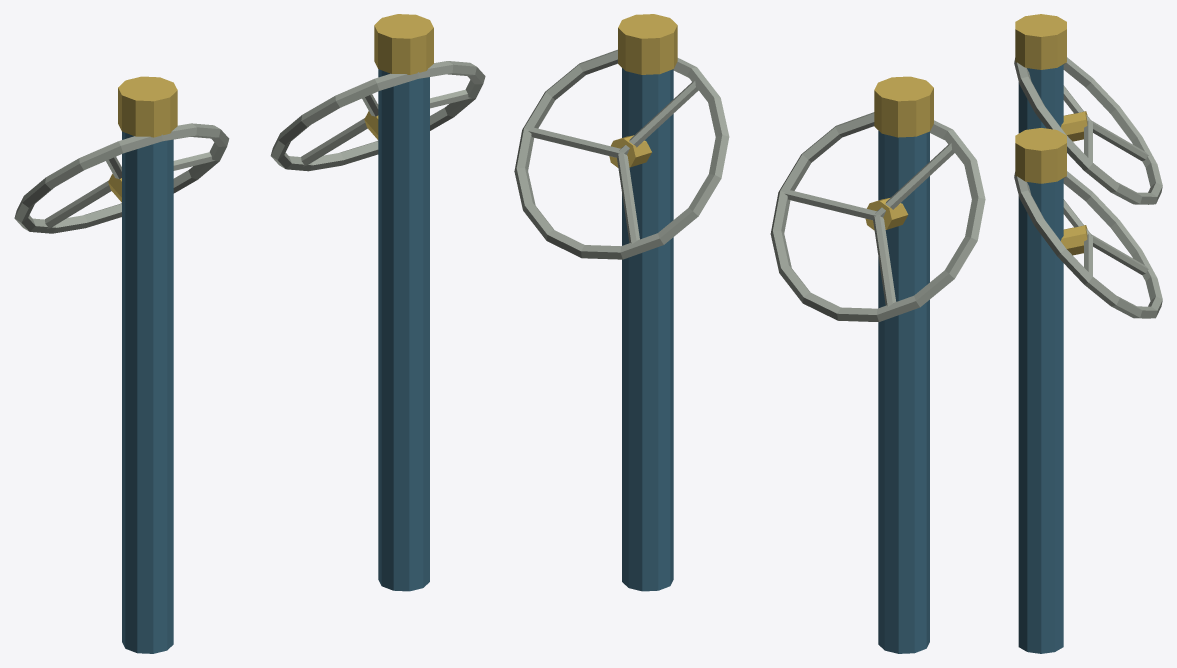
The model's file is SM_QD_StreetPark_ShoulderWheel.fbx.
3 views of the same model, side by side, from view 1: azimuth 30°, elevation 25°; view 2: azimuth 150°, elevation 25°; view 3: azimuth 270°, elevation 25° (orthographic). The views are drawn at different scales.
Parts seen in each view (by area): view 1: SM_QD_StreetPark_ShoulderWheel; view 2: SM_QD_StreetPark_ShoulderWheel; view 3: SM_QD_StreetPark_ShoulderWheel.
Part boxes in pixels (x1=…): SM_QD_StreetPark_ShoulderWheel: x1=14, y1=14, x2=485, y2=653; SM_QD_StreetPark_ShoulderWheel: x1=514, y1=14, x2=985, y2=653; SM_QD_StreetPark_ShoulderWheel: x1=1014, y1=14, x2=1162, y2=653.
Size of the model in its own units: 1.32 by 0.4087 by 1.53.
